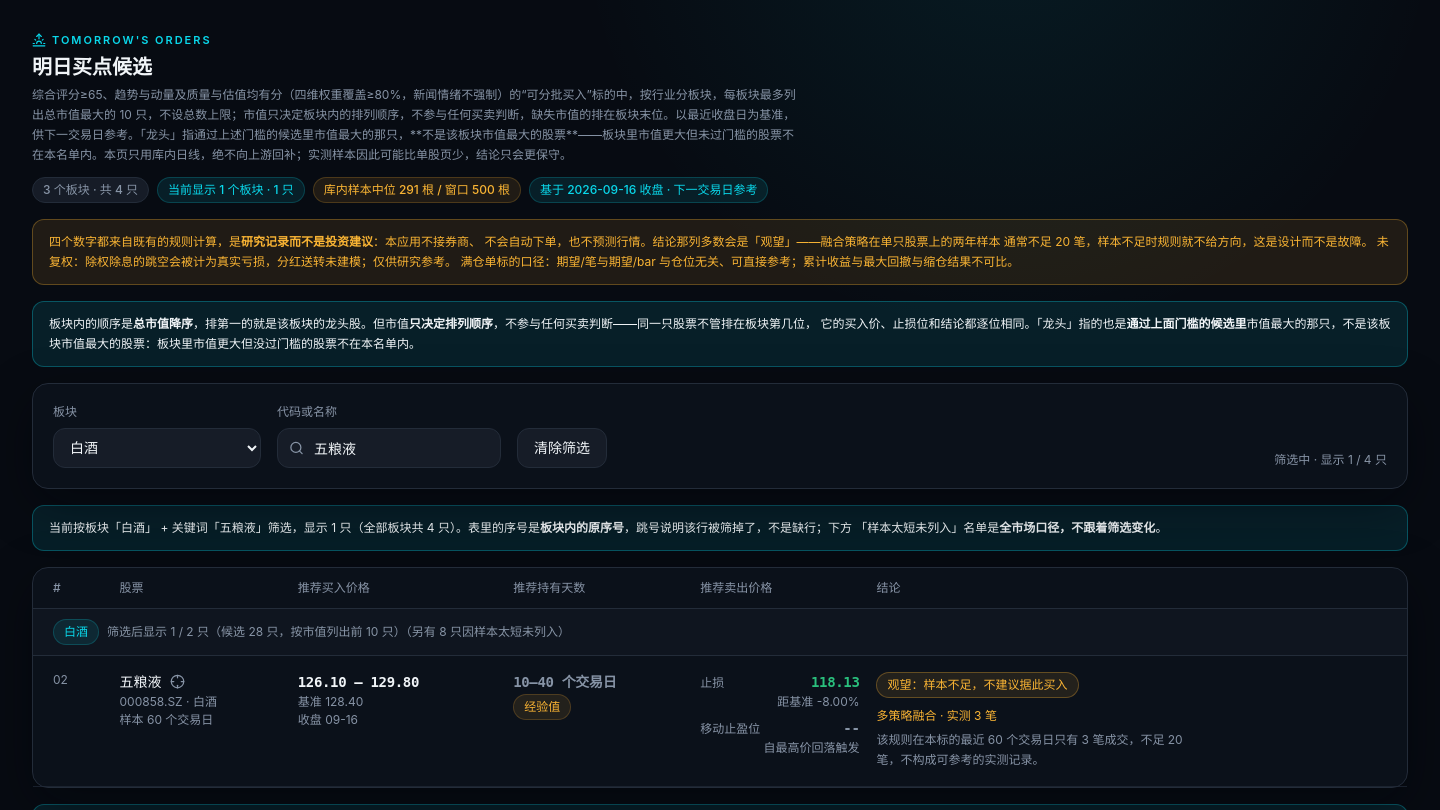
TomorrowPage › "清除筛选"把两个条件一起清掉，表格立刻回到全量
The width and height of the screenshot is (1440, 810).
Expected: the text "库内样本中位 291 根 / 窗口 500 根" is shown, [313, 176, 521, 202]
Expected: the dropdown labelled "板块" shows "白酒", [53, 428, 261, 468]
Click the button "清除筛选" at {"x": 562, "y": 448}, box [517, 428, 607, 468]
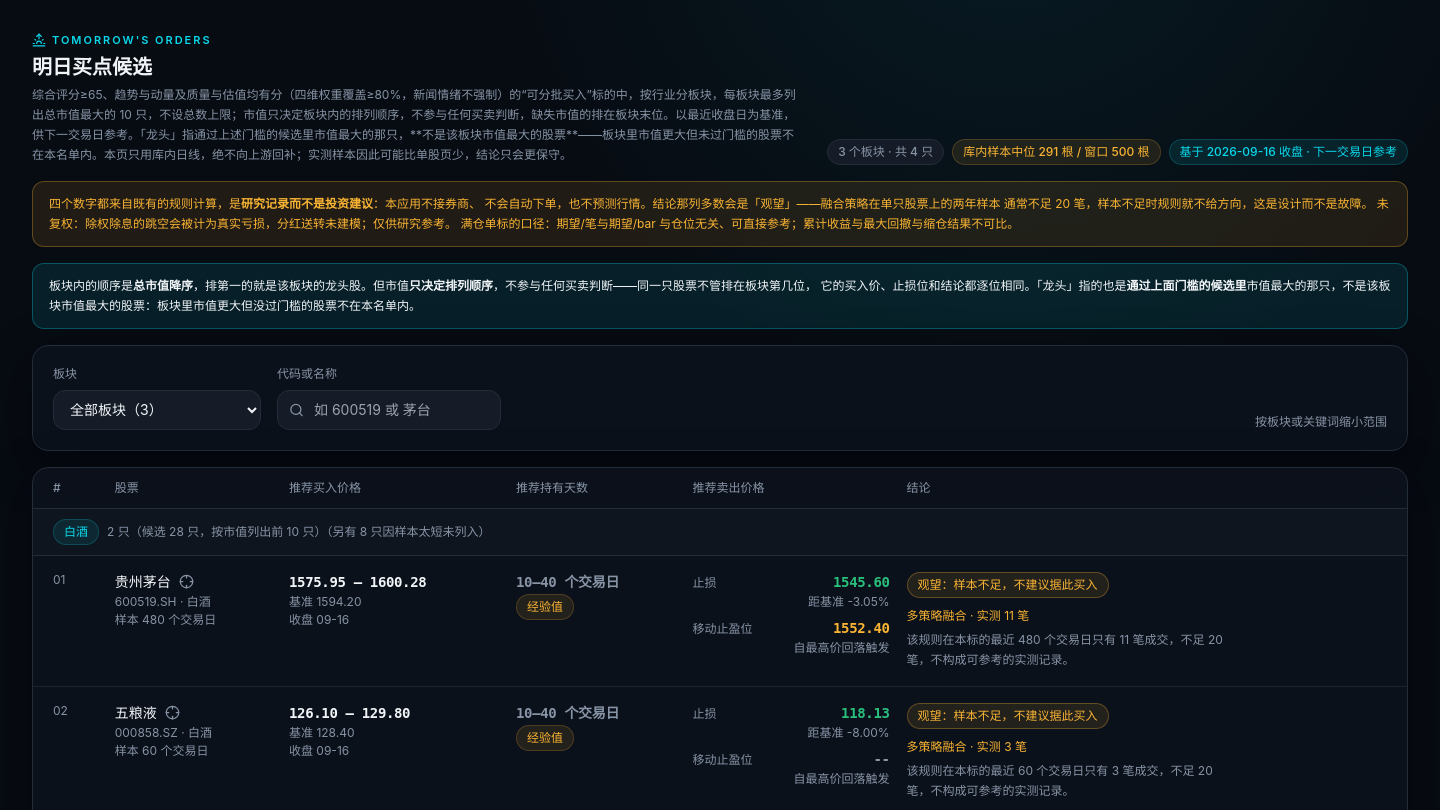
Now the dropdown labelled "板块" shows "全部板块（3）", box [53, 390, 261, 430]
Now the field named "筛选本页股票" is empty, box [277, 390, 501, 430]
Now the button "清除筛选" is gone
